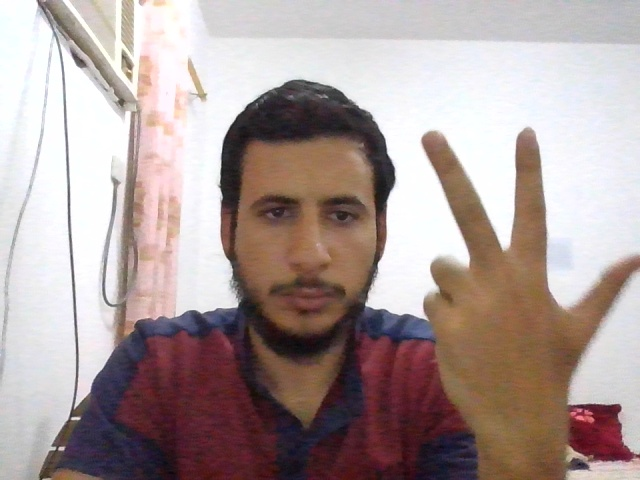Three: (421, 125, 640, 422)
